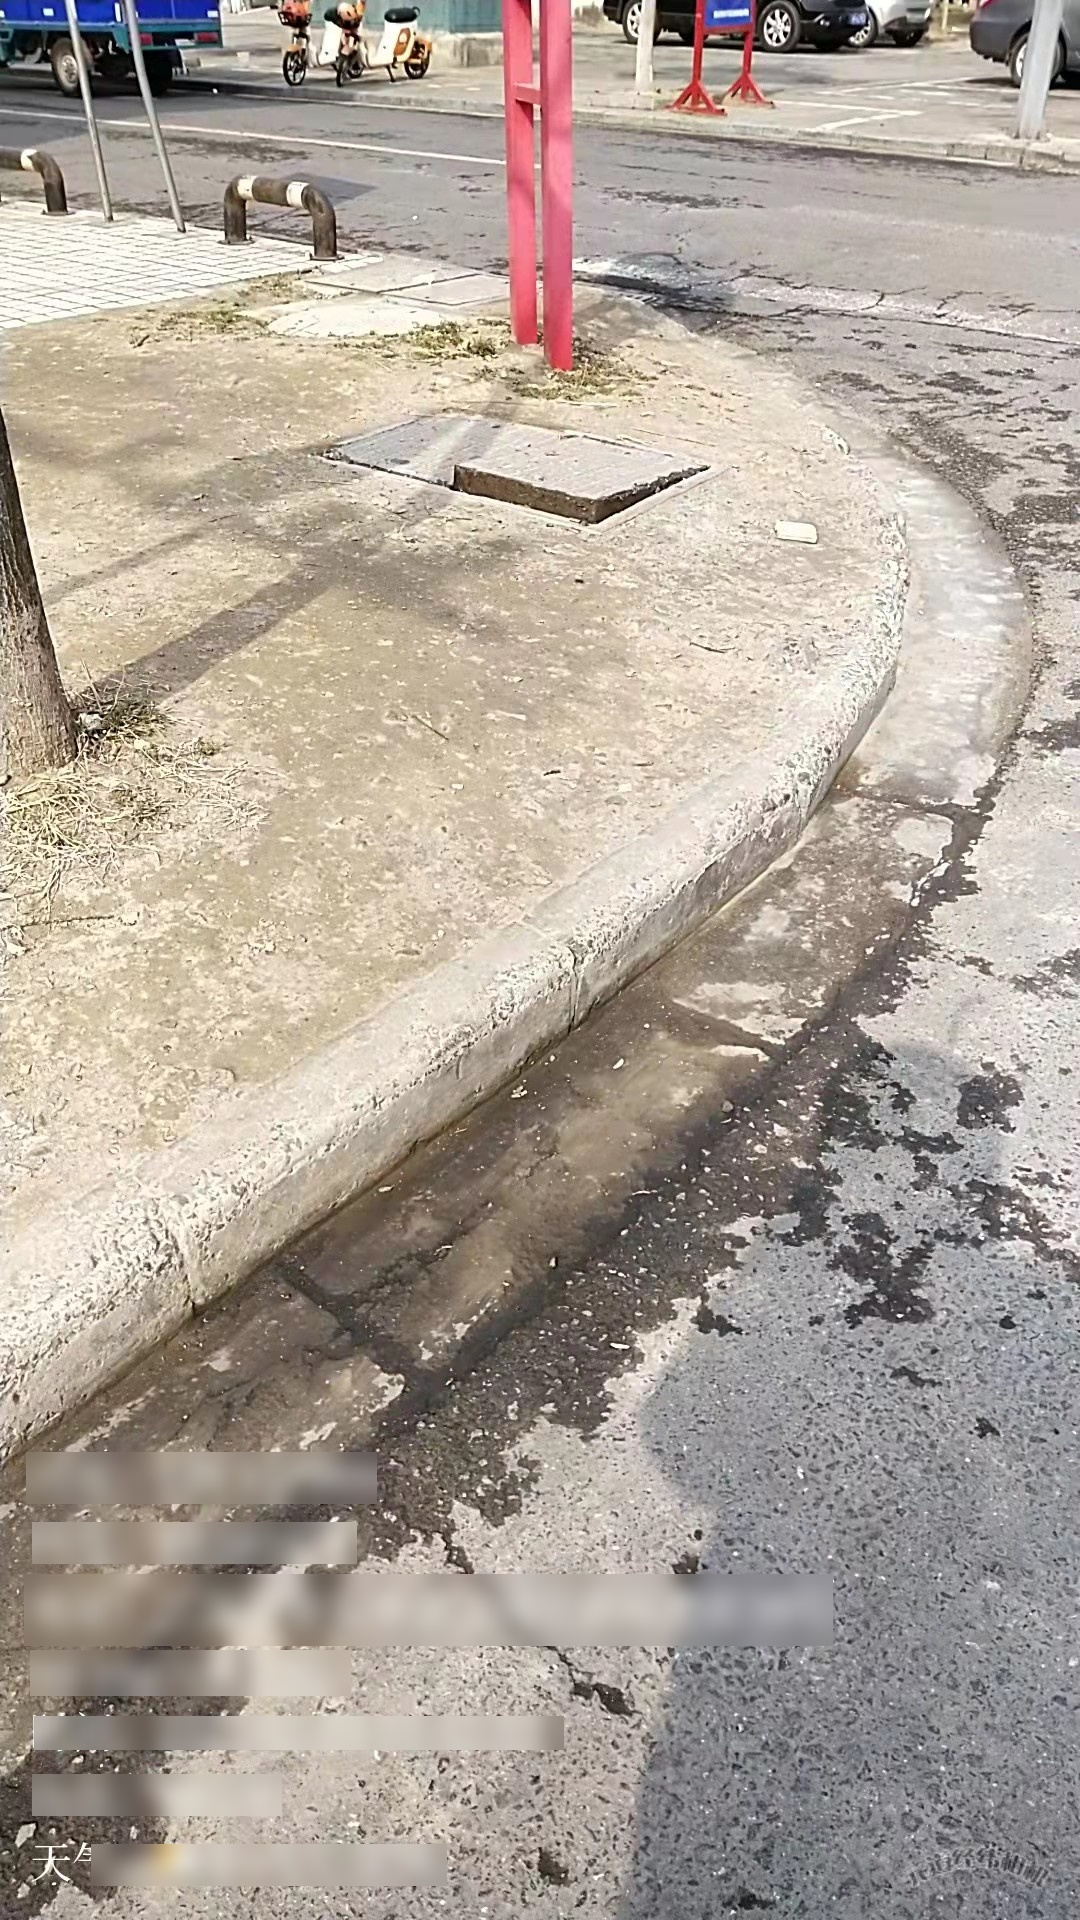uncovered: (313, 404, 717, 529)
